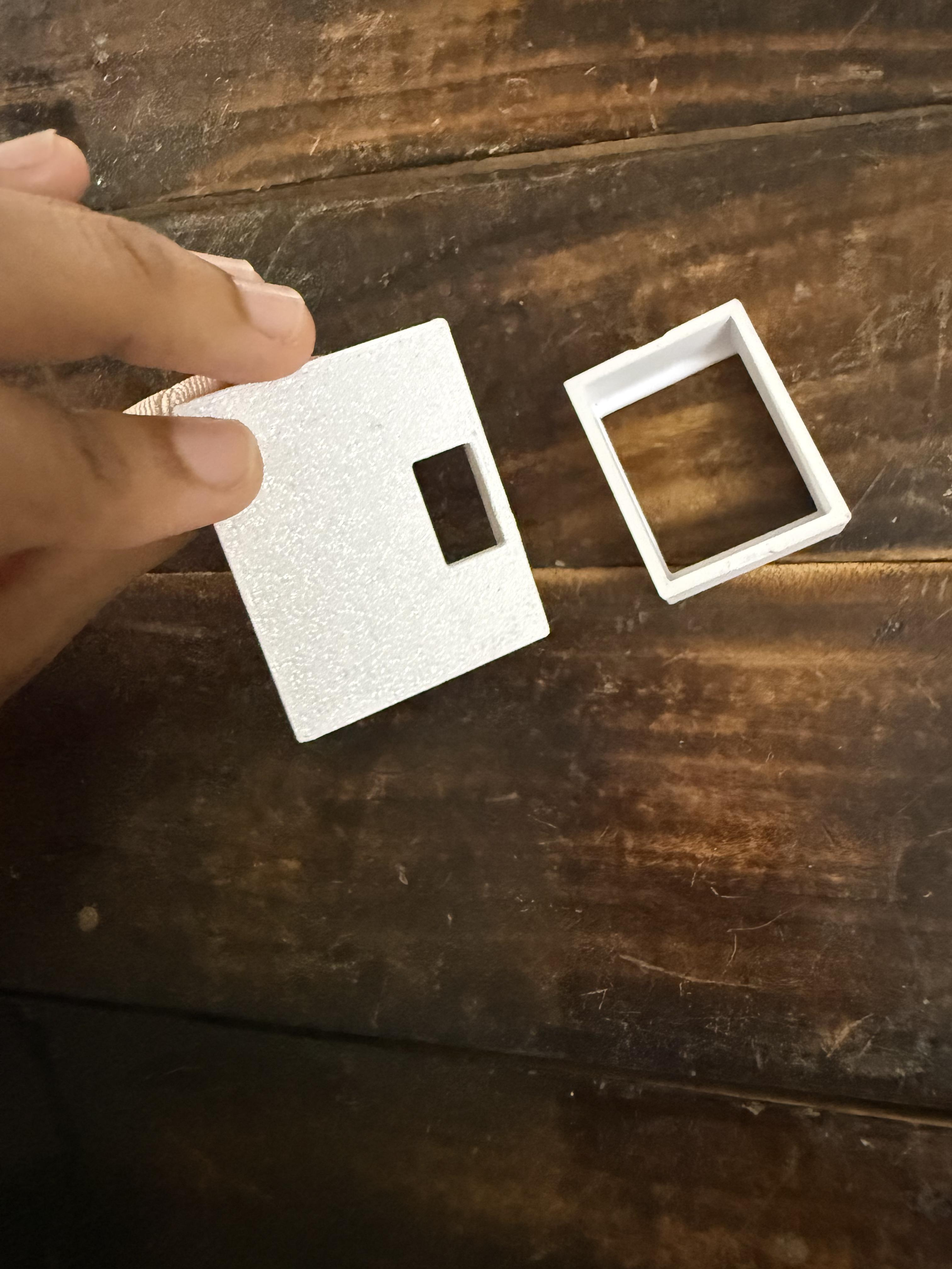enclosure: (171, 318, 550, 743), (564, 298, 852, 605)
